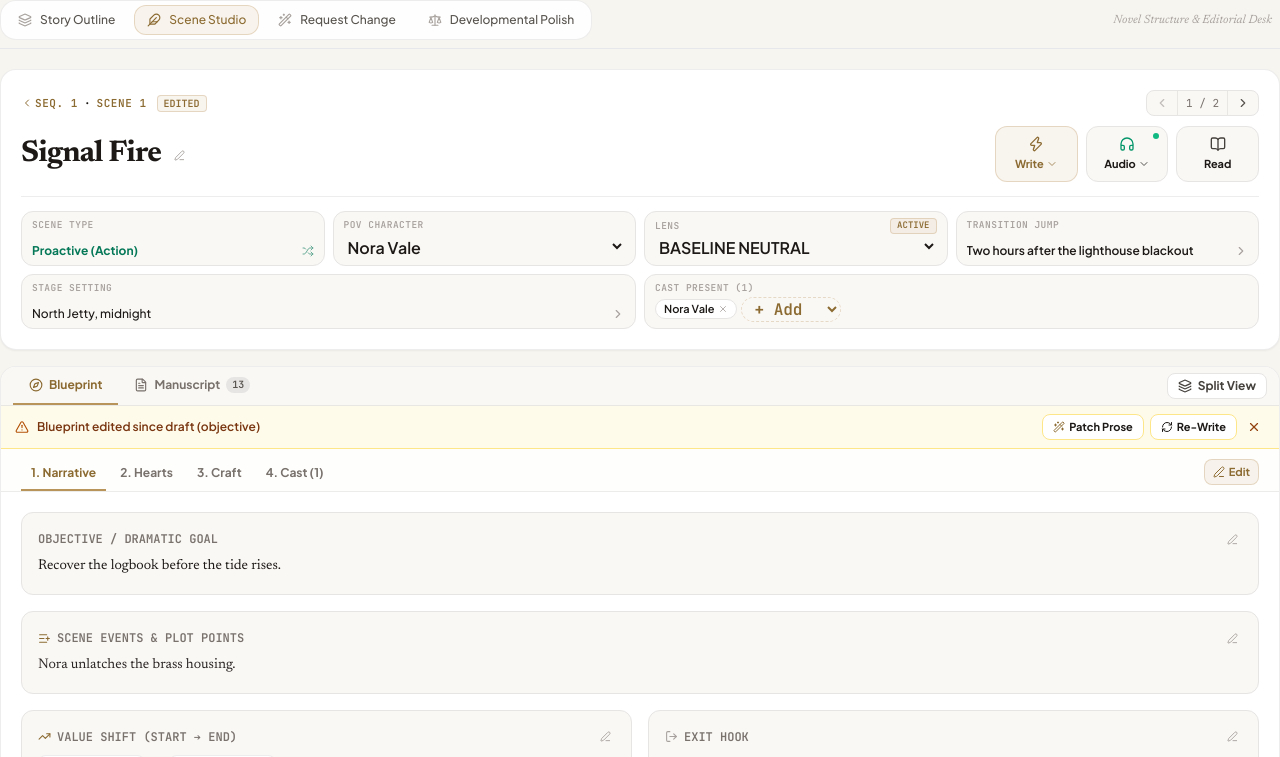
it: Phase 5F: WriterView and PipelineView › renders WriterView Director Card, handles Write/Read actions, Stale bar, and Blueprint Edit save
Later steps or results of the test are not shown.
Next scene button
Click the button named "Next Scene". click: coordinates (1243, 103)
box: [1228,92,1258,114]
Stale bar Patch Prose
Click the button "Patch Prose". click: coordinates (1093, 427)
box: [1042,414,1144,440]
Open Write popover & click Re-Write Prose
Click the button "Write". click: coordinates (1036, 154)
box: [995,126,1078,182]
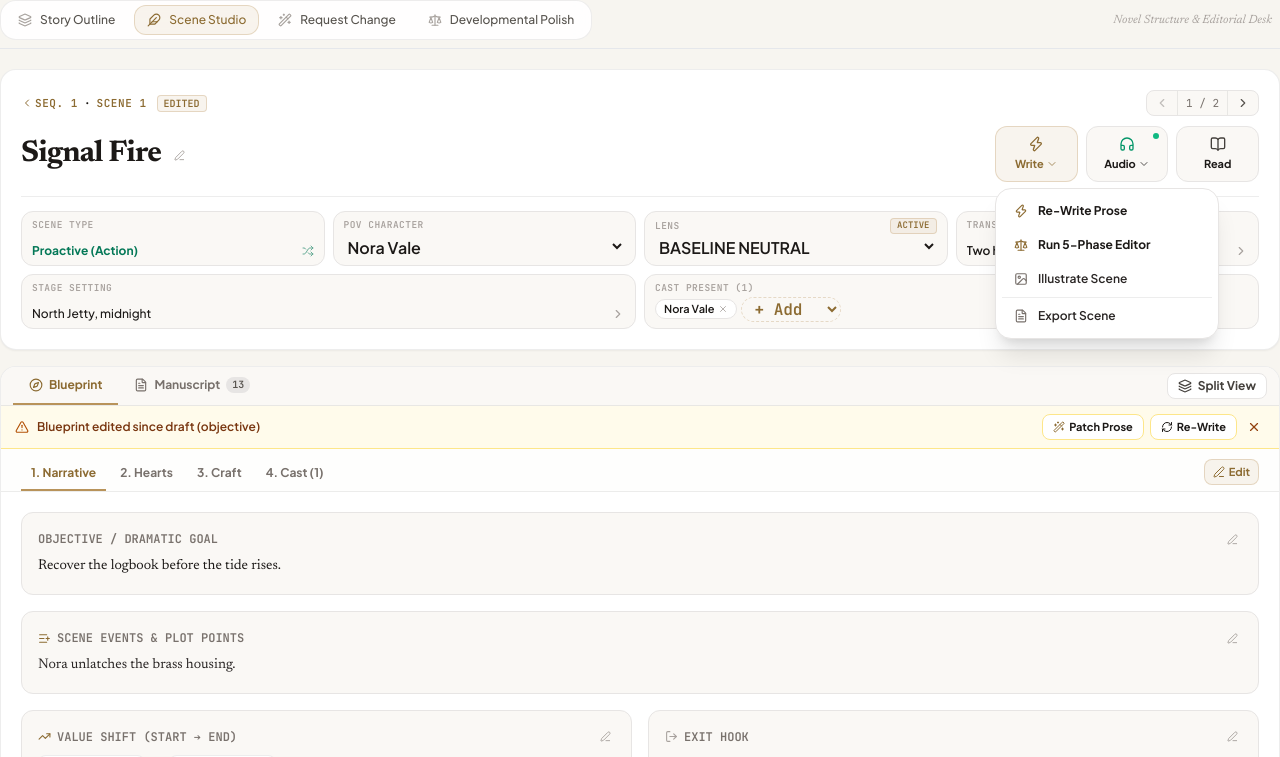
Click the button "Re-Write Prose". click: coordinates (1107, 211)
box: [1002,195,1212,227]
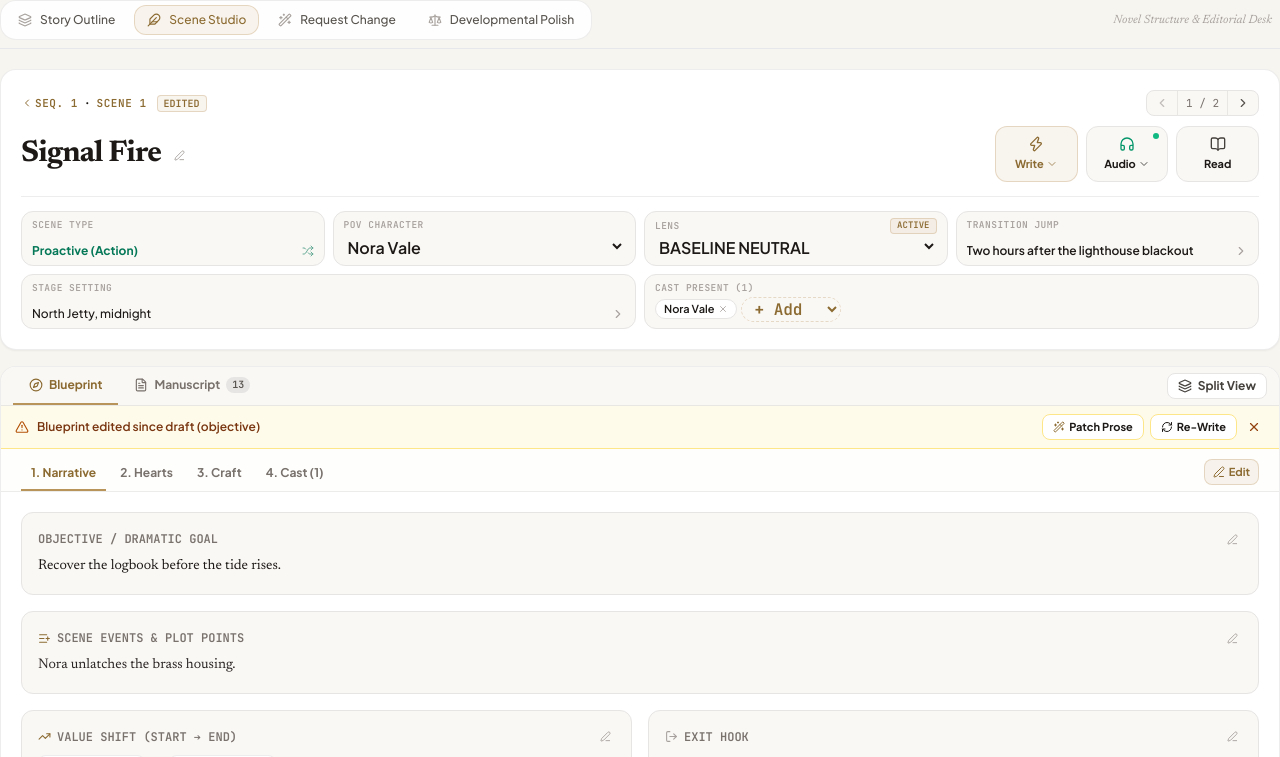
Read button
Click the button "Read". click: coordinates (1218, 154)
box: [1176,126,1259,182]
Click the button "Edit". click: coordinates (1231, 472)
box: [1204,459,1259,485]
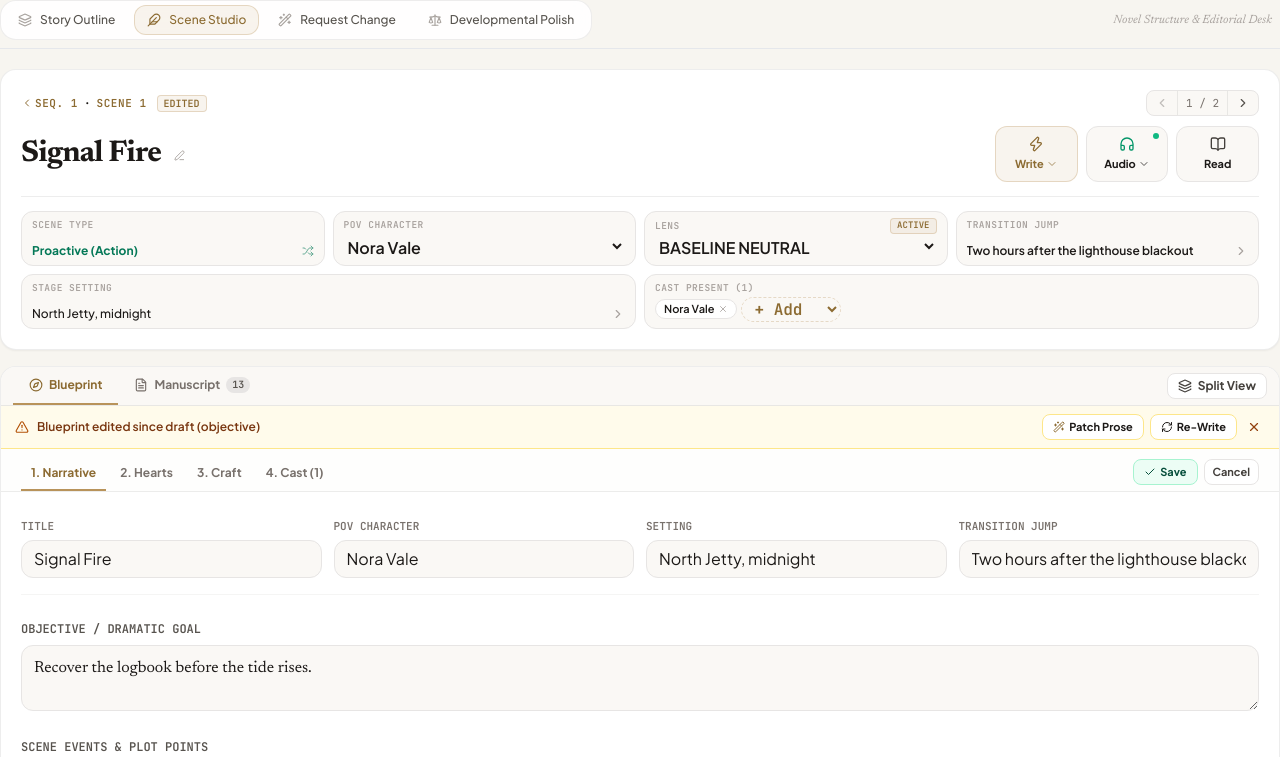
Expected: the field below "Title" is shown, [21,540,322,578]
